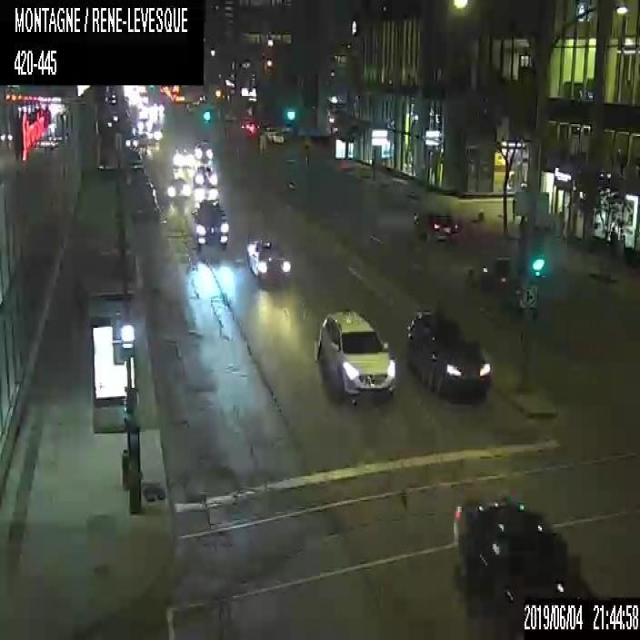vehicle: (452, 494, 596, 638), (402, 308, 493, 393), (313, 309, 396, 400), (244, 232, 291, 284), (477, 255, 525, 302), (191, 196, 228, 251), (411, 208, 457, 244), (165, 176, 189, 200), (193, 138, 216, 161), (194, 166, 216, 189), (172, 147, 192, 167), (263, 127, 284, 144)
